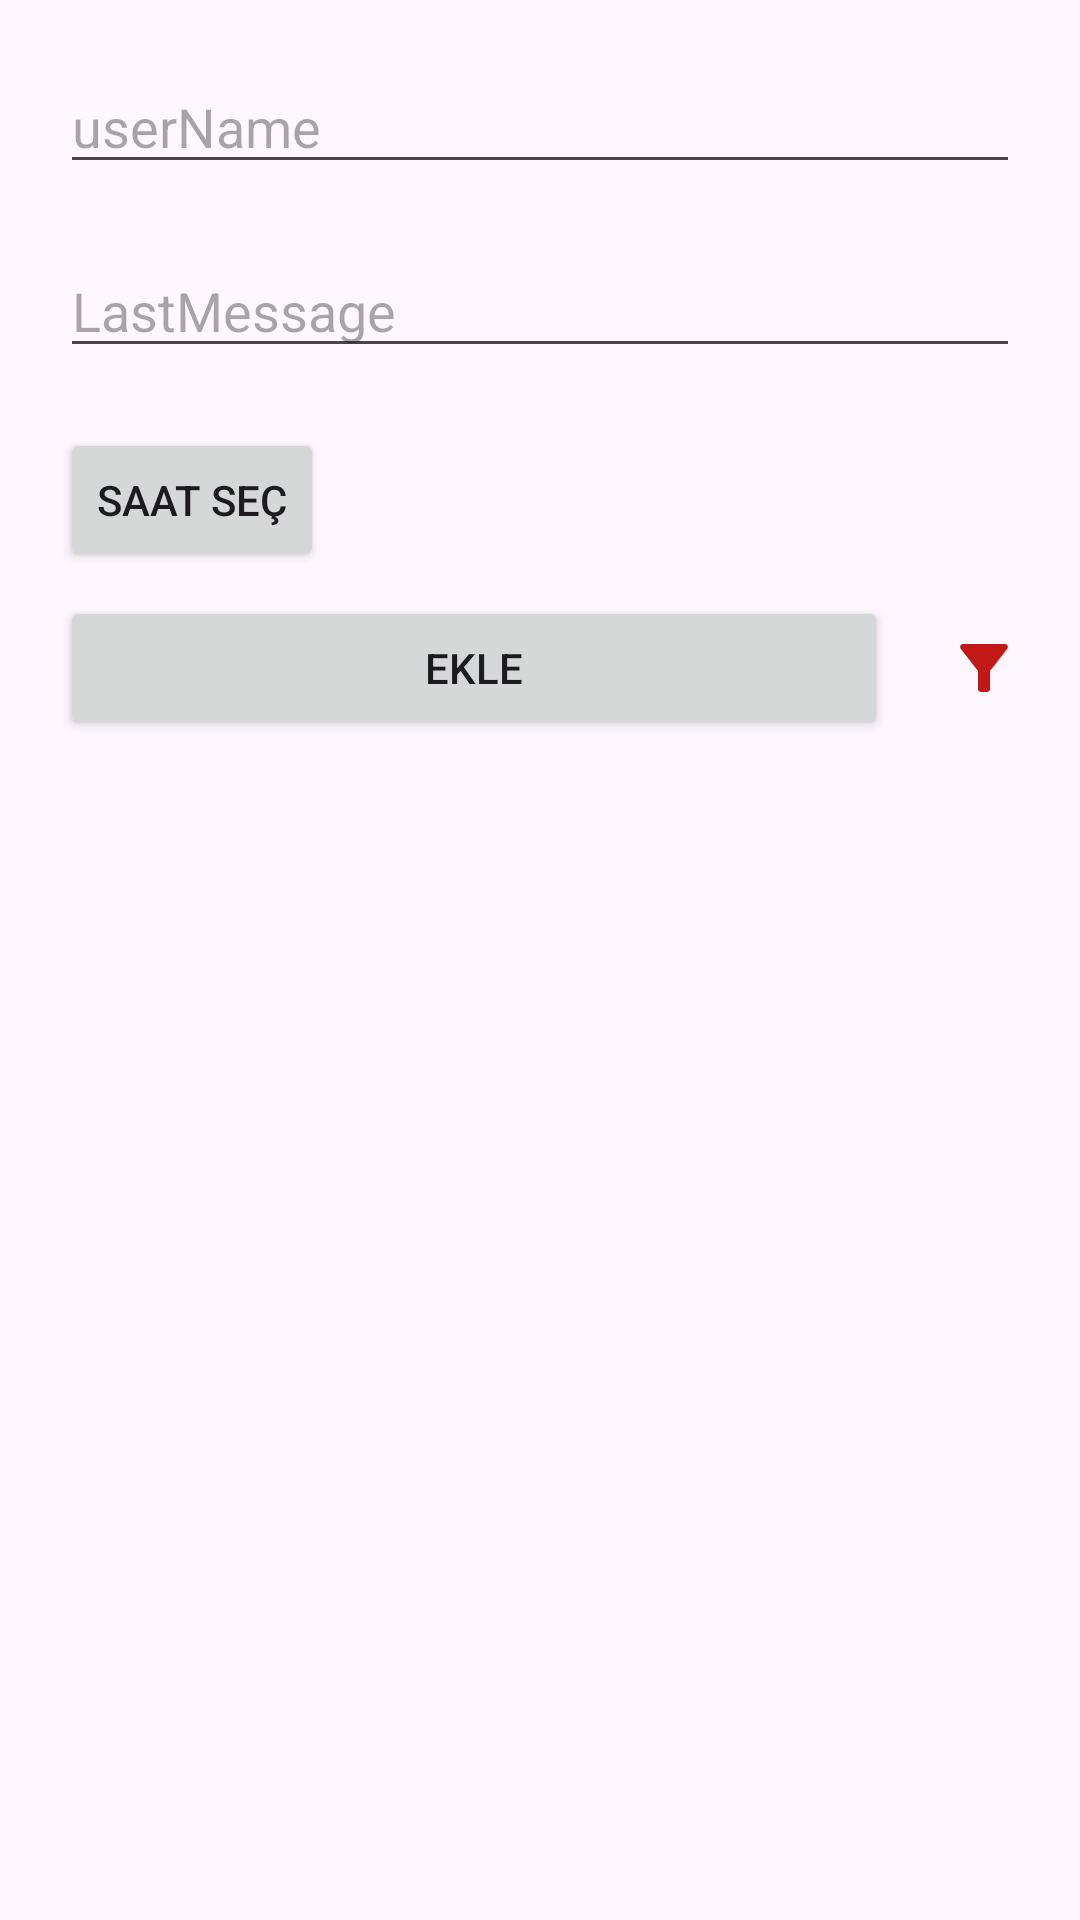

Icon click points for this 1080 x 1920 phone screenshot, format (x=x, y=y):
filter: (x=984, y=668)
